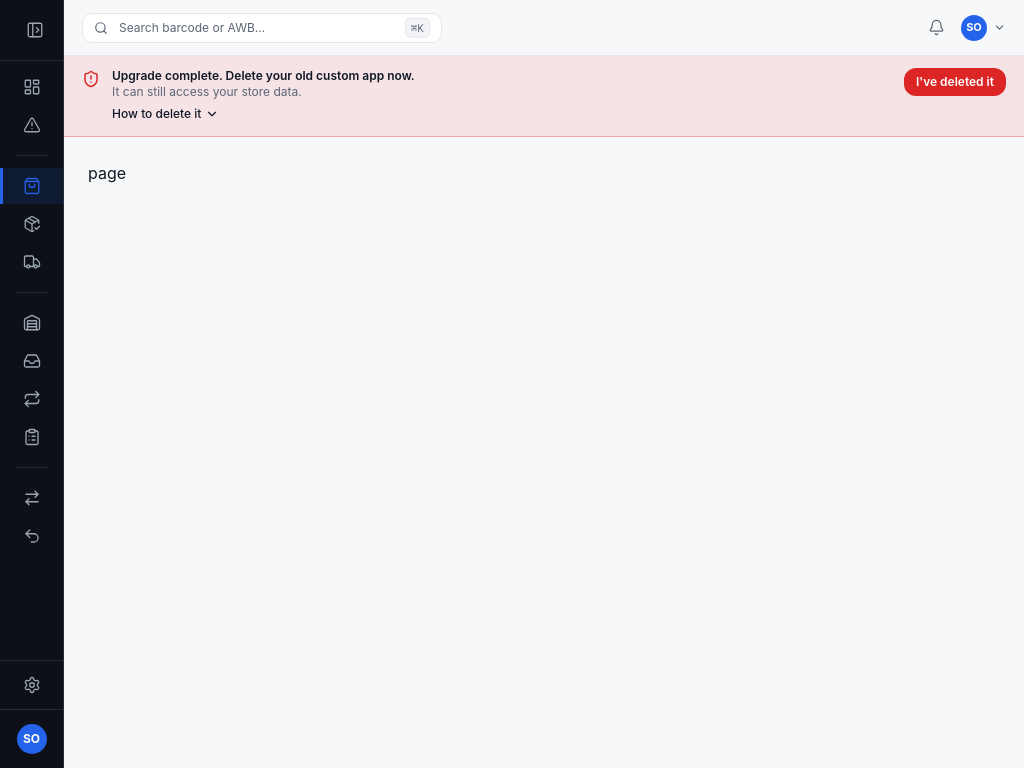
Test: app-wide upgrade notice — Layout › u3 — owner, delete stage: steps open on demand; "I've deleted it" confirms once and the banner goes
Check: the text "Upgrade complete. Delete your old custom app now." is shown, box x1=112 y1=68 x2=415 y2=83
Check: the text "It can still access your store data." is shown, box x1=112 y1=84 x2=302 y2=99
Step 1. Click the button "How to delete it" → x=166, y=114, box x1=112 y1=106 x2=219 y2=122
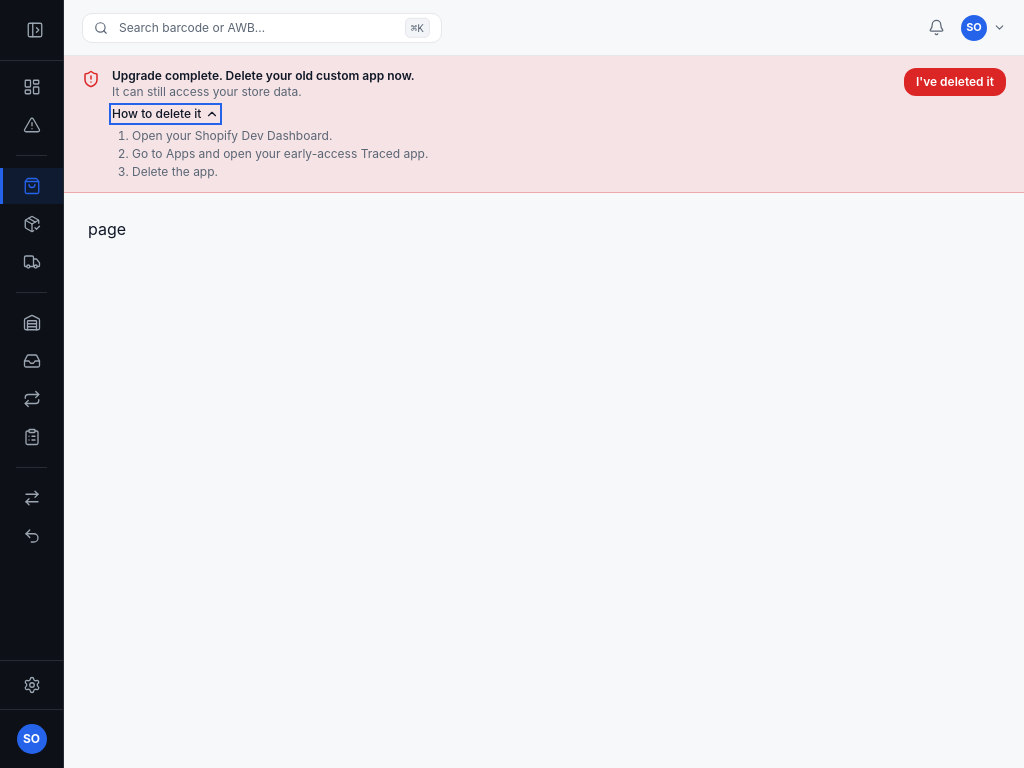
Check: the list items read "Open your Shopify Dev Dashboard.", "Go to Apps and open your early-access Traced app.", "Delete the app.", in this order, box x1=132 y1=128 x2=332 y2=143; x1=132 y1=146 x2=428 y2=161; x1=132 y1=164 x2=218 y2=179
Step 2. Click the button "I've deleted it" → x=955, y=82, box x1=904 y1=68 x2=1006 y2=96
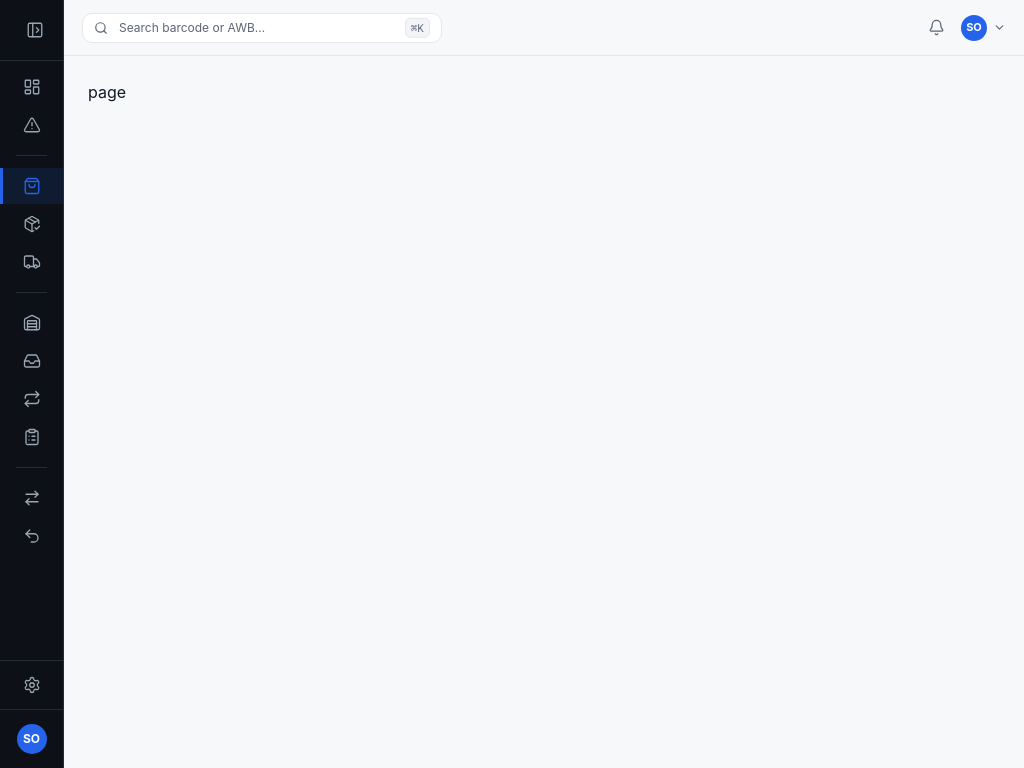
Check: the message with test id "shopify-upgrade-banner" is gone
